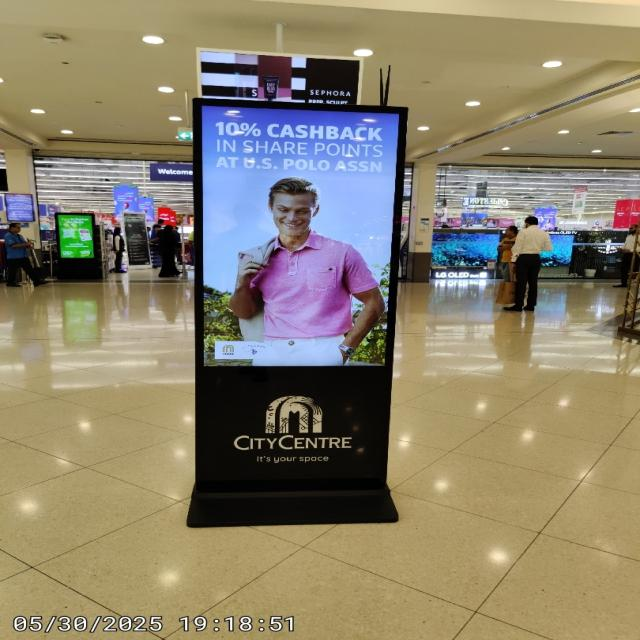mupi: (193, 97, 403, 500)
